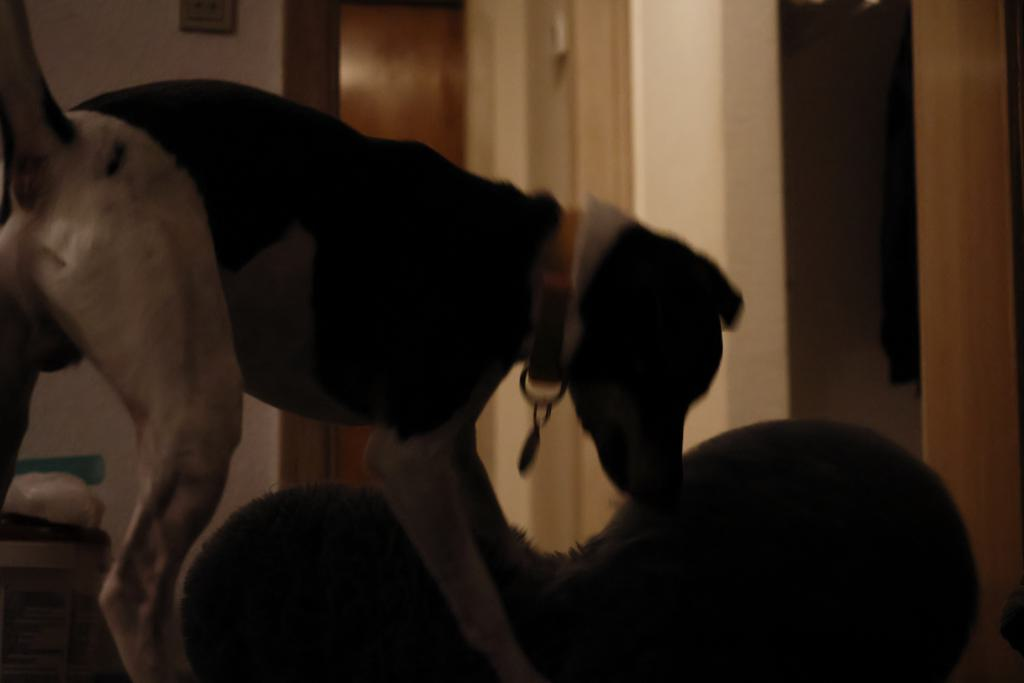Dog: (0, 0, 765, 683)
